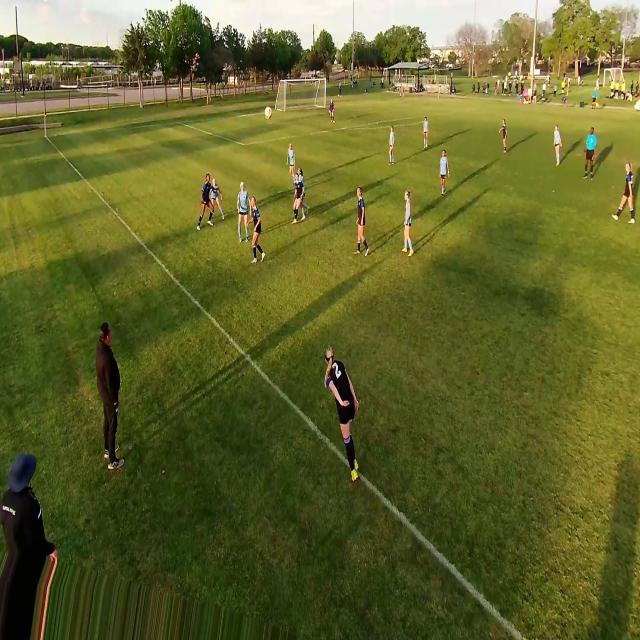ball: (264, 106, 273, 121)
team1: (324, 341, 364, 482), (616, 161, 637, 224), (356, 190, 372, 258), (198, 176, 216, 229), (253, 199, 267, 266), (292, 175, 304, 223), (503, 117, 509, 152)
team2: (209, 178, 229, 226), (404, 190, 416, 256), (238, 182, 250, 238), (440, 150, 451, 197), (554, 125, 563, 167), (289, 142, 298, 180), (388, 125, 396, 165), (422, 116, 429, 150), (297, 163, 305, 182)
